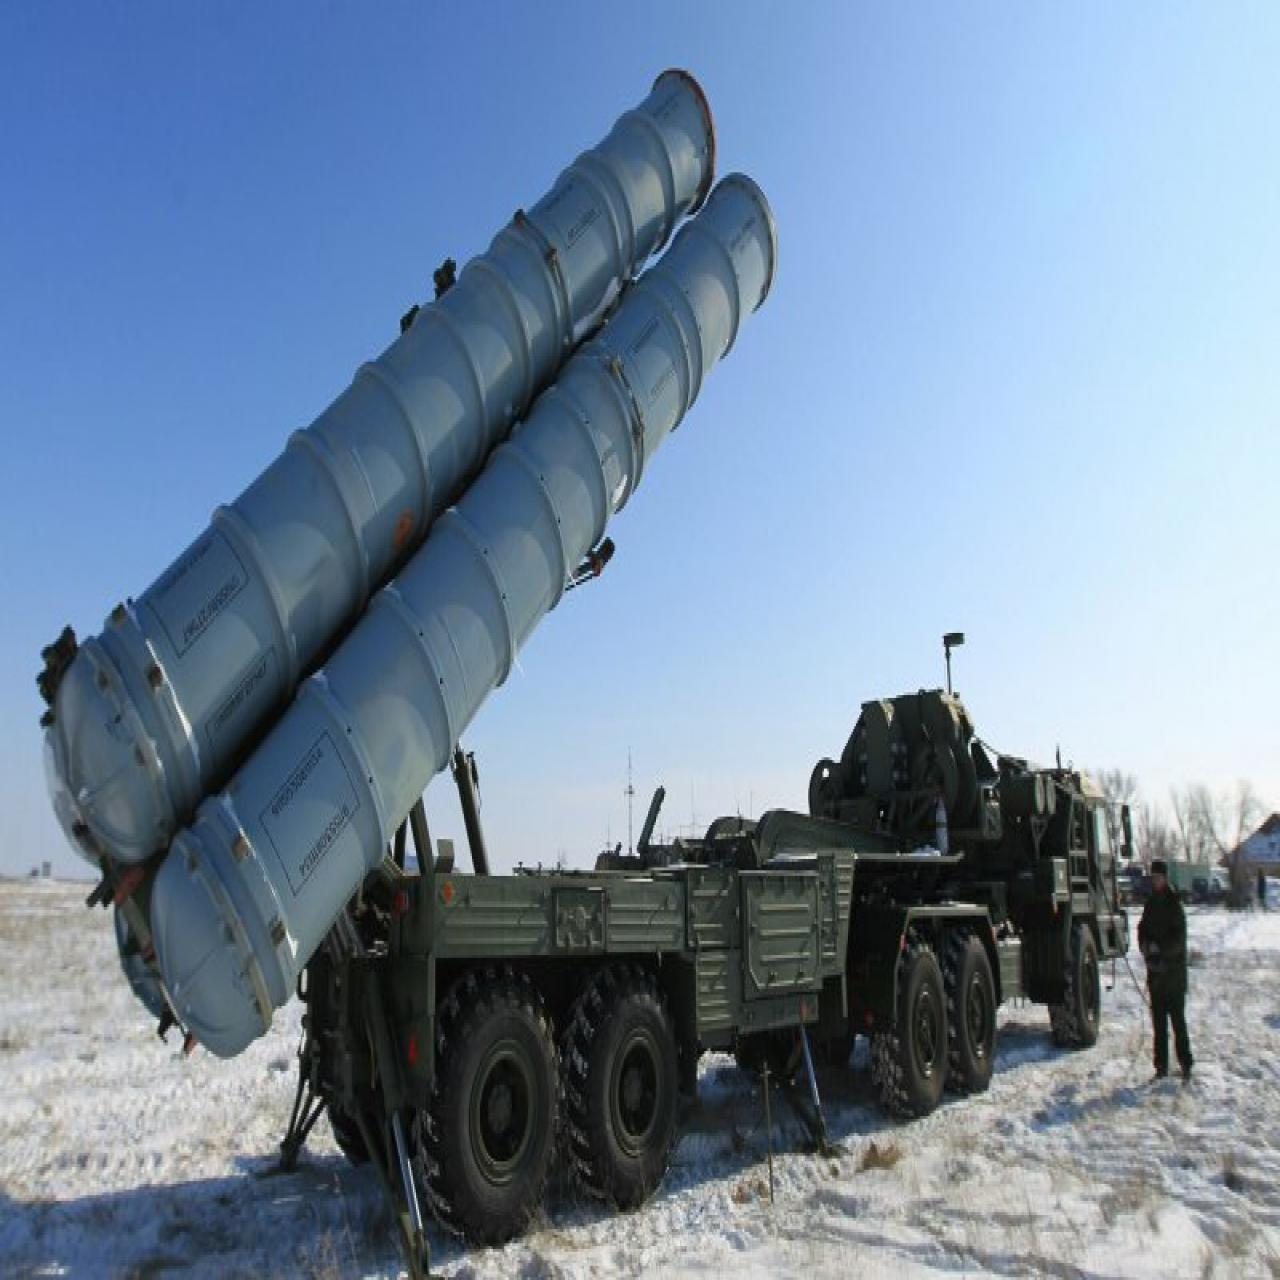MIL_Veh: (41, 62, 1131, 1252)
